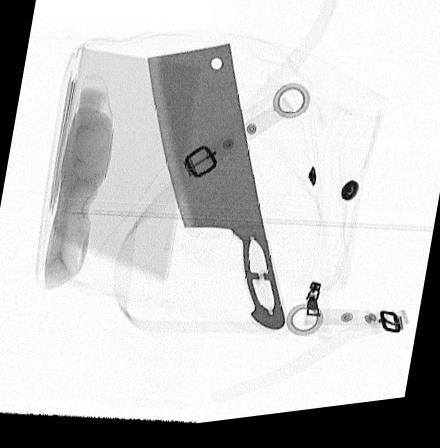Knife: (145, 48, 287, 339)
